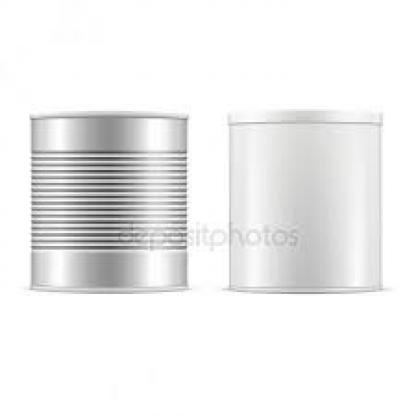trash: (31, 112, 186, 291), (229, 110, 381, 291)
